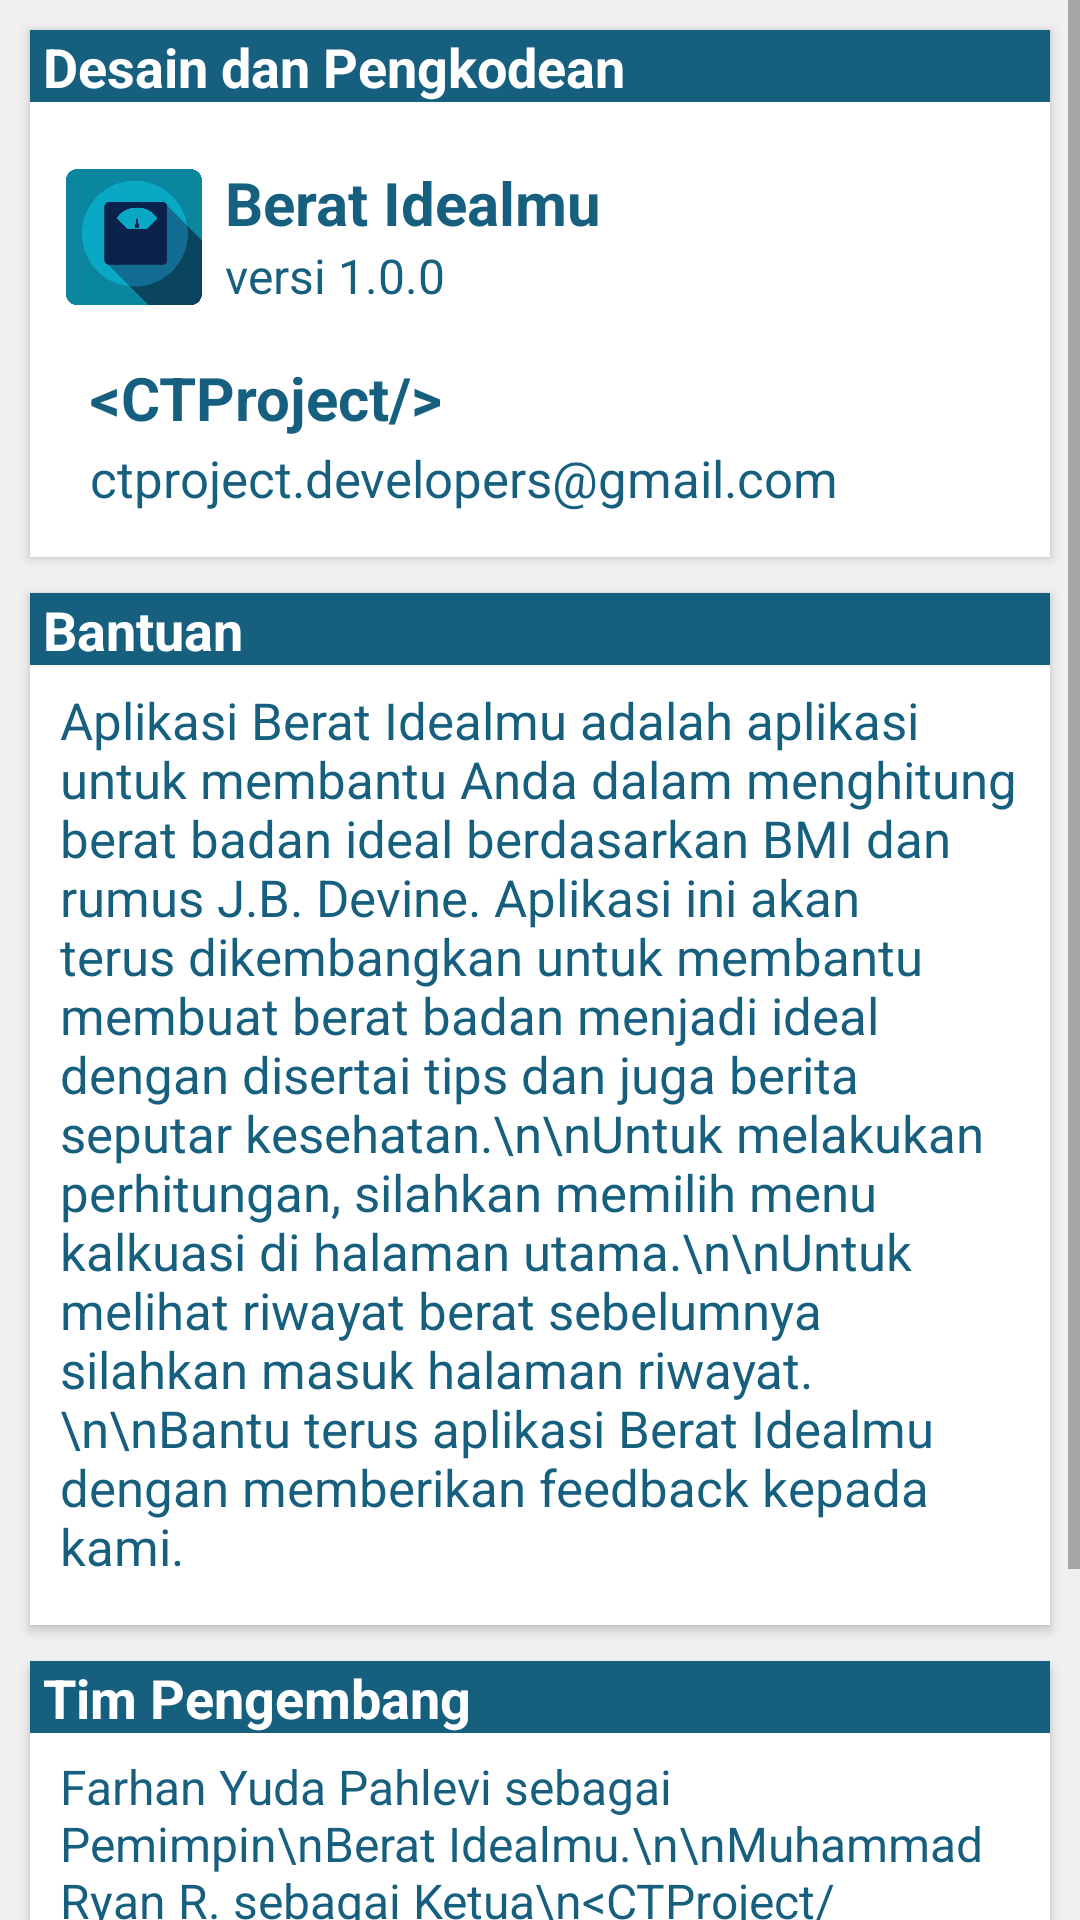

Icon click points for this 1080px x 1920px phone screenshot, format (x=x, y=y):
iconblue: (x=134, y=237)
